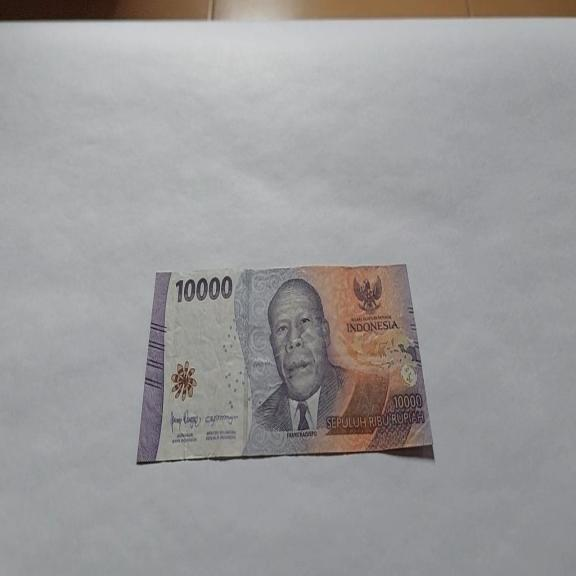Kertas: (136, 261, 435, 466), (174, 274, 233, 304)
